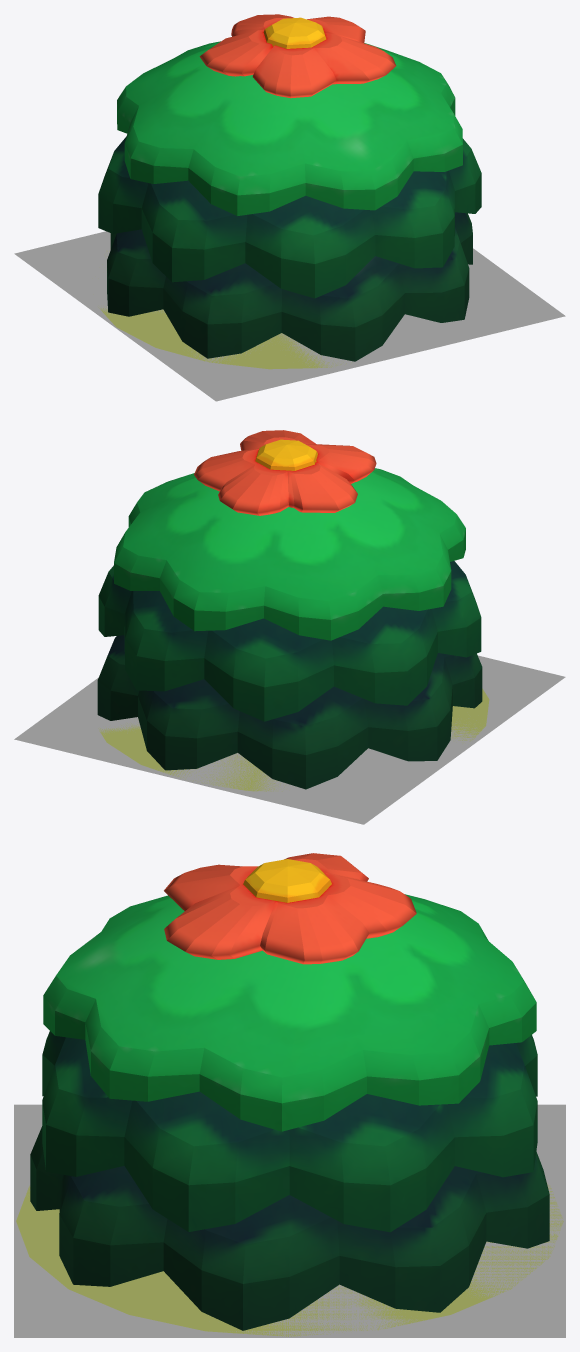
File: Bush.fbx
3 views of the same model, one above another, from view 1: azimuth 30°, elevation 25°; view 2: azimuth 150°, elevation 25°; view 3: azimuth 270°, elevation 25° (orthographic). The views are drawn at different scales.
Visible parts, largest first — view 1: Bush, BushGrid, FlowerPetals, BushShadow, FlowerMiddle; view 2: Bush, BushGrid, FlowerPetals, BushShadow, FlowerMiddle; view 3: Bush, BushGrid, FlowerPetals, BushShadow, FlowerMiddle.
Boxes of the visible parts, x1=… form: Bush: x1=98, y1=41, x2=481, y2=361; BushGrid: x1=14, y1=231, x2=565, y2=401; FlowerPetals: x1=199, y1=14, x2=396, y2=98; BushShadow: x1=98, y1=251, x2=346, y2=369; FlowerMiddle: x1=263, y1=17, x2=326, y2=48; Bush: x1=97, y1=468, x2=482, y2=789; BushGrid: x1=14, y1=655, x2=565, y2=824; FlowerPetals: x1=194, y1=430, x2=376, y2=515; BushShadow: x1=98, y1=688, x2=489, y2=791; FlowerMiddle: x1=255, y1=439, x2=317, y2=470; Bush: x1=30, y1=894, x2=549, y2=1330; BushGrid: x1=14, y1=1104, x2=565, y2=1337; FlowerPetals: x1=164, y1=853, x2=416, y2=964; BushShadow: x1=16, y1=1182, x2=563, y2=1336; FlowerMiddle: x1=243, y1=859, x2=331, y2=902.
Size of the model in its own units: 1 by 0.7146 by 1.
Materials: 4 (2 with a texture image).
